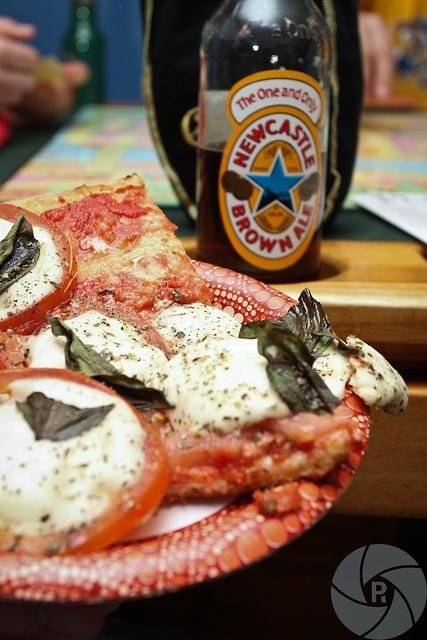tomato: (1, 368, 170, 558), (0, 202, 77, 334), (105, 309, 169, 361), (272, 412, 339, 443)
